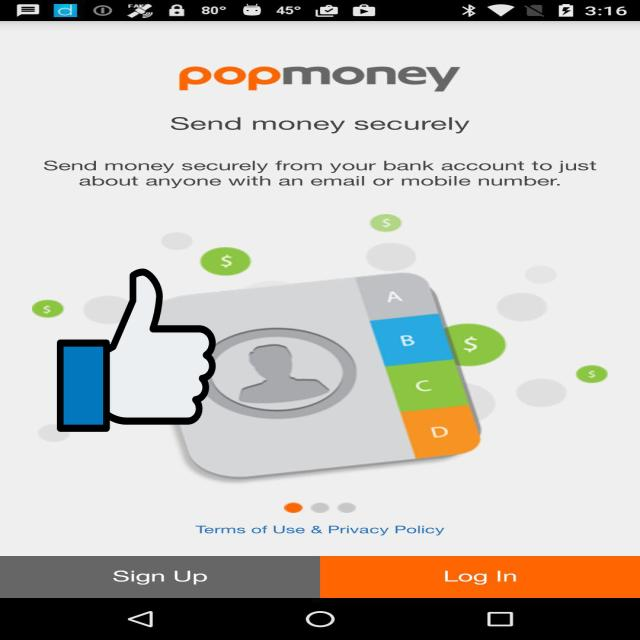privacy zuckering: (57, 265, 216, 435)
